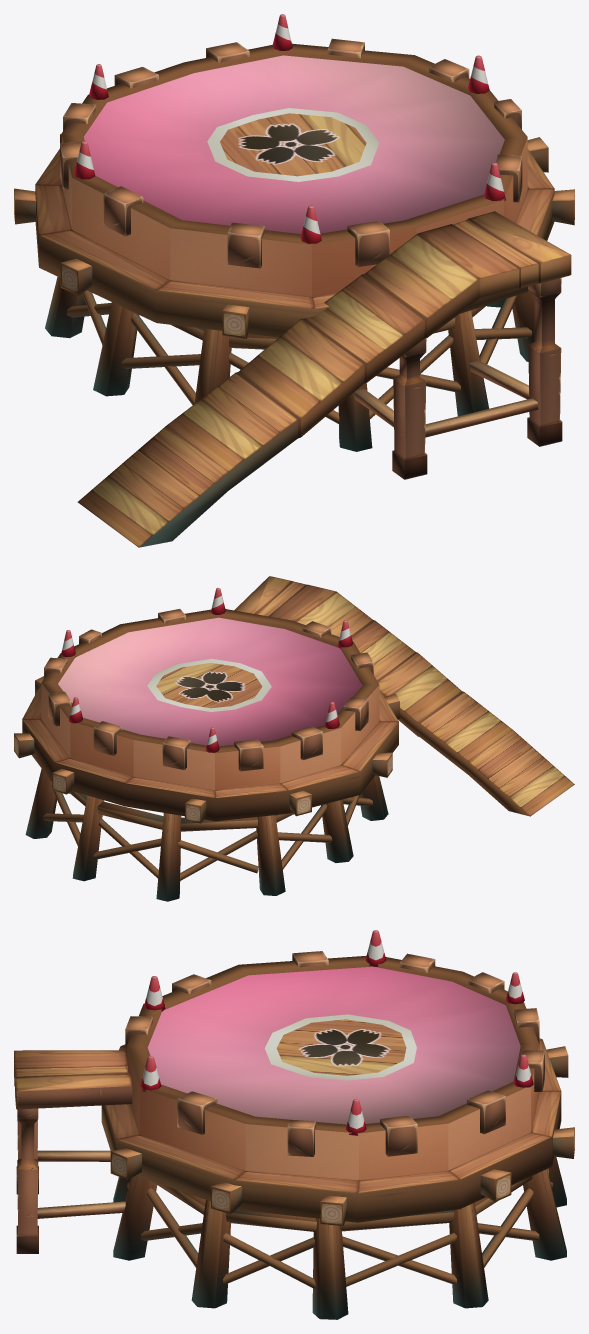
File: CBS_obj_Airfield.FBX
The picture shows the model from 3 angles, top to bottom: view 1: azimuth 30°, elevation 25°; view 2: azimuth 150°, elevation 25°; view 3: azimuth 270°, elevation 25°; orthographic projection. The views are drawn at different scales.
Visible parts, largest first — view 1: CBS_obj_Airfield; view 2: CBS_obj_Airfield; view 3: CBS_obj_Airfield.
Boxes of the visible parts, <box> form: CBS_obj_Airfield: <box>14,14,574,547</box>; CBS_obj_Airfield: <box>14,576,574,901</box>; CBS_obj_Airfield: <box>14,930,574,1319</box>.
Size of the model in its own units: 497 by 191 by 460.
